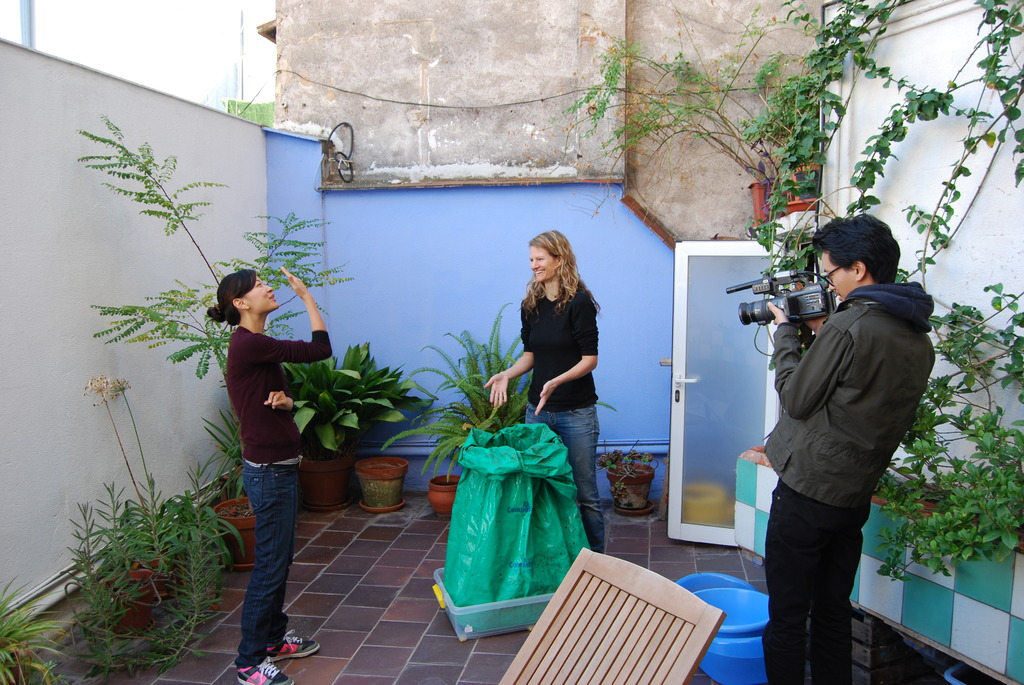Footwear: (239, 657, 312, 684), (274, 629, 325, 661)
